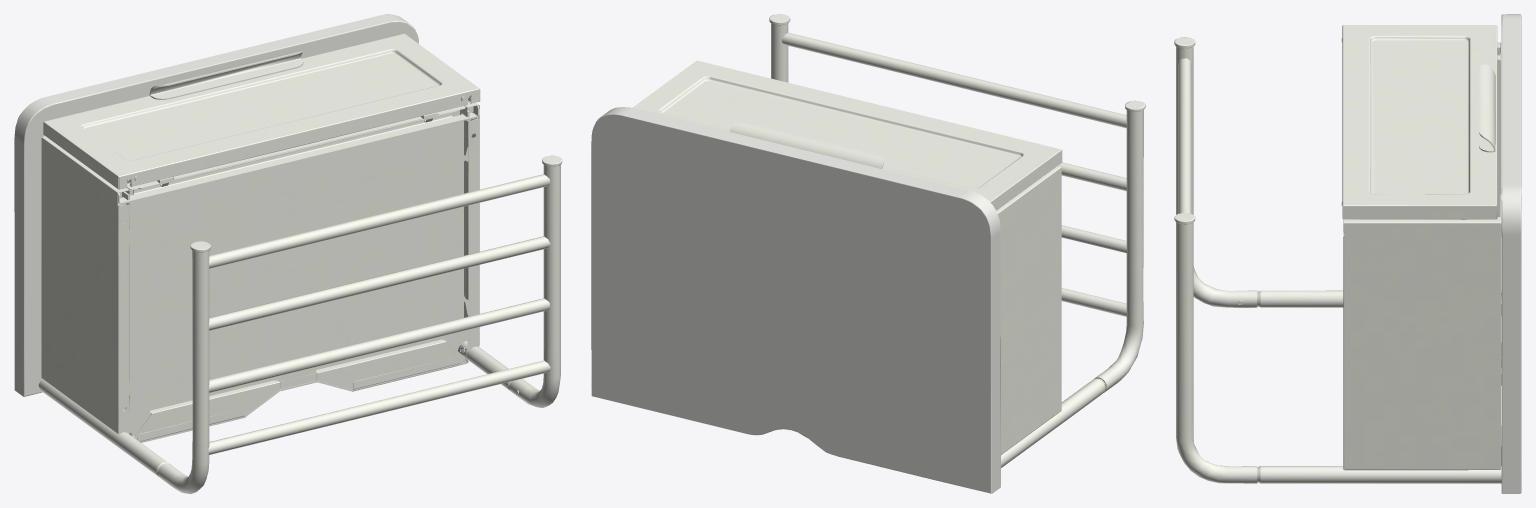
The model's file is grafjaellet_wall_mounted_bedside_table_w.glb.
3 renders of one model, left to right at view 1: azimuth 30°, elevation 25°; view 2: azimuth 150°, elevation 25°; view 3: azimuth 270°, elevation 25°, orthographic. The views are drawn at different scales.
Parts seen in each view (by area): view 1: ASY_ART_50603116_S01_NV01; view 2: ASY_ART_50603116_S01_NV01; view 3: ASY_ART_50603116_S01_NV01.
Part boxes in pixels (x1=…): ASY_ART_50603116_S01_NV01: x1=14, y1=14, x2=562, y2=493; ASY_ART_50603116_S01_NV01: x1=591, y1=14, x2=1145, y2=493; ASY_ART_50603116_S01_NV01: x1=1174, y1=14, x2=1521, y2=493.
Size of the model in its own units: 0.42 by 0.292 by 0.3115.
1 material, 1 textured.
